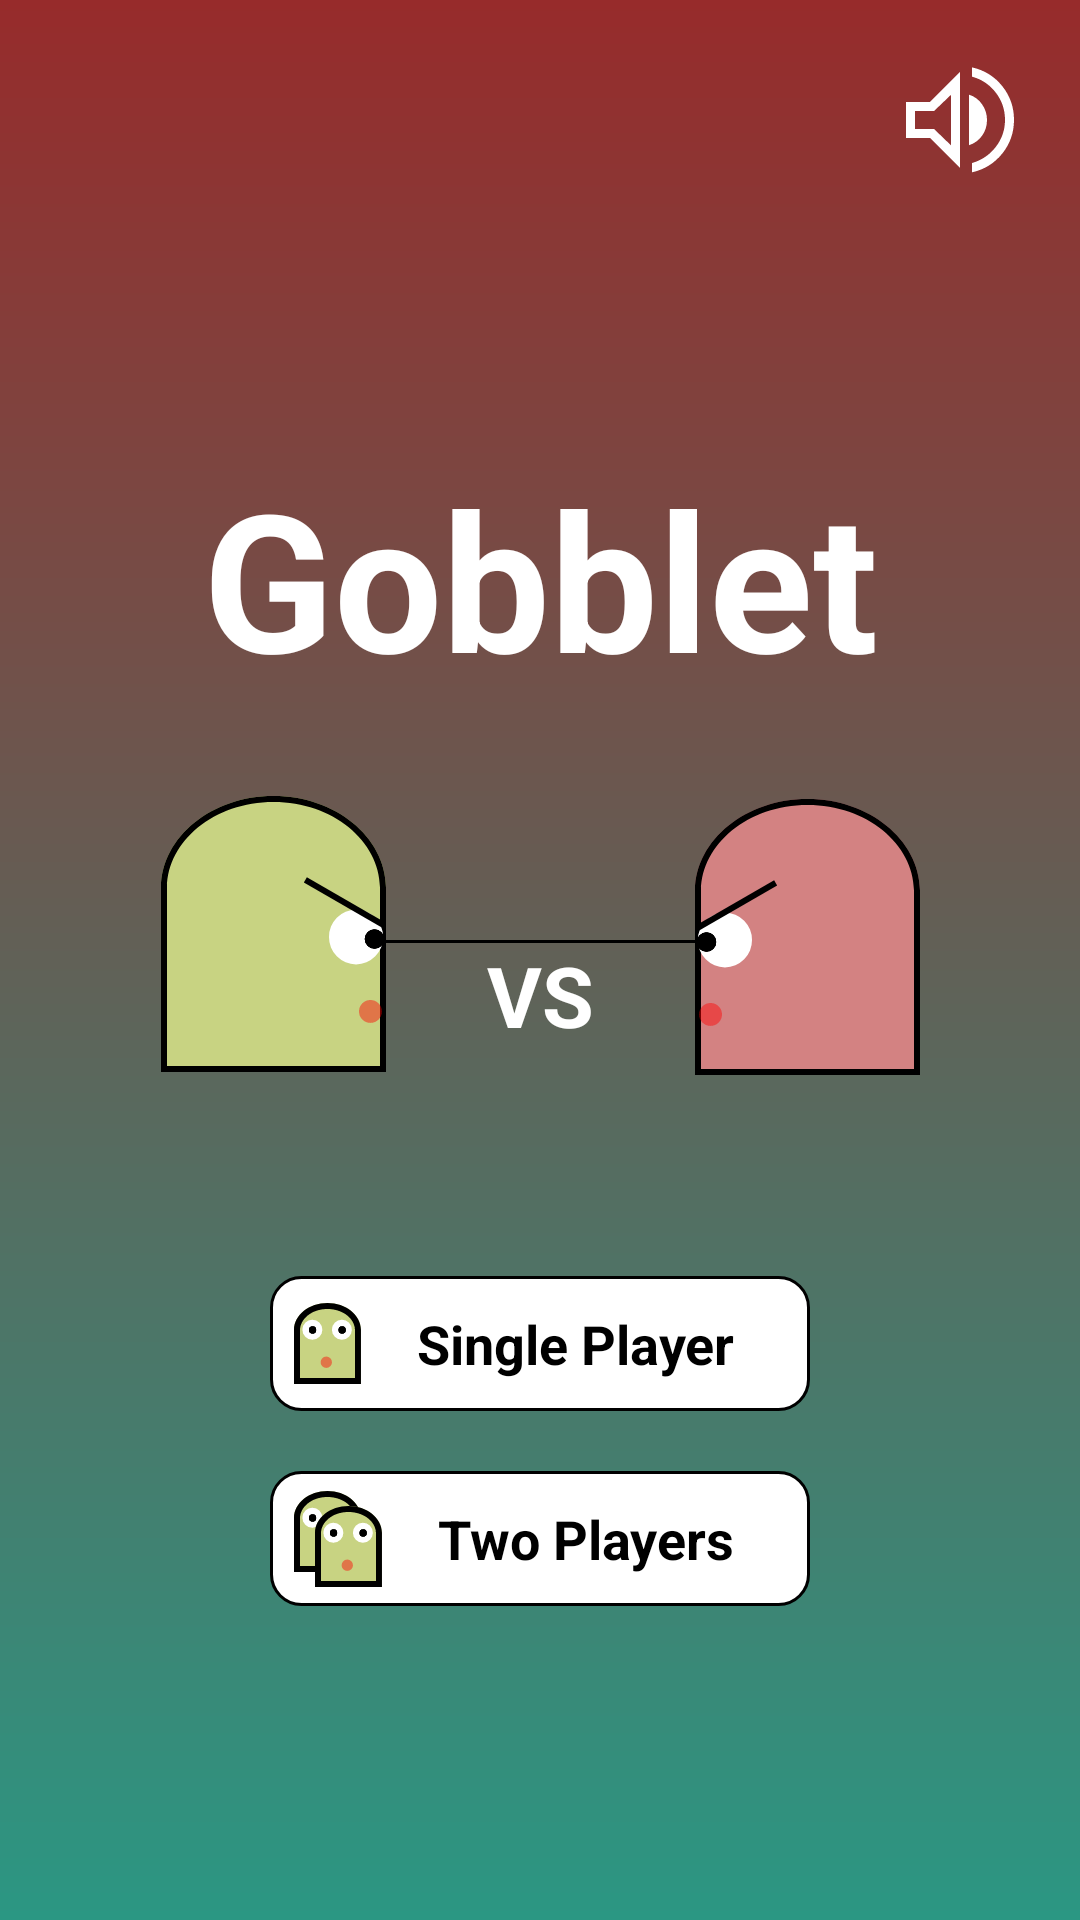

Screen size 1080×1920. Icon name, then its box in pixels as (x1, y1, x2, y2):
volume: (906, 67, 1014, 173)
